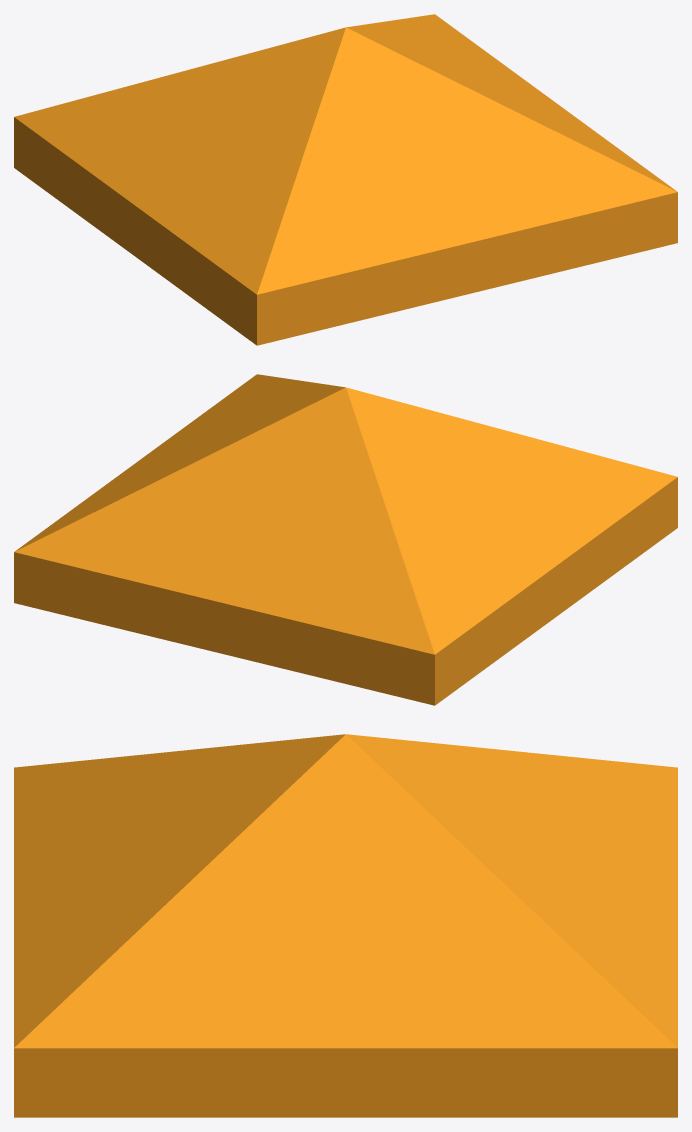
File: SM_Buildings_RoofAngledPoint_1x1_01.fbx
3 views of the same model, one above another, from view 1: azimuth 30°, elevation 25°; view 2: azimuth 150°, elevation 25°; view 3: azimuth 270°, elevation 25° (orthographic). The views are drawn at different scales.
Visible parts, largest first — view 1: SM_Buildings_RoofAngledPoint_1x1_01; view 2: SM_Buildings_RoofAngledPoint_1x1_01; view 3: SM_Buildings_RoofAngledPoint_1x1_01.
Part boxes in pixels (left/top/right/bottom): SM_Buildings_RoofAngledPoint_1x1_01: left=14, top=14, right=677, bottom=345; SM_Buildings_RoofAngledPoint_1x1_01: left=14, top=374, right=677, bottom=705; SM_Buildings_RoofAngledPoint_1x1_01: left=14, top=734, right=677, bottom=1117.
Size of the model in its own units: 100 by 40.43 by 100.
